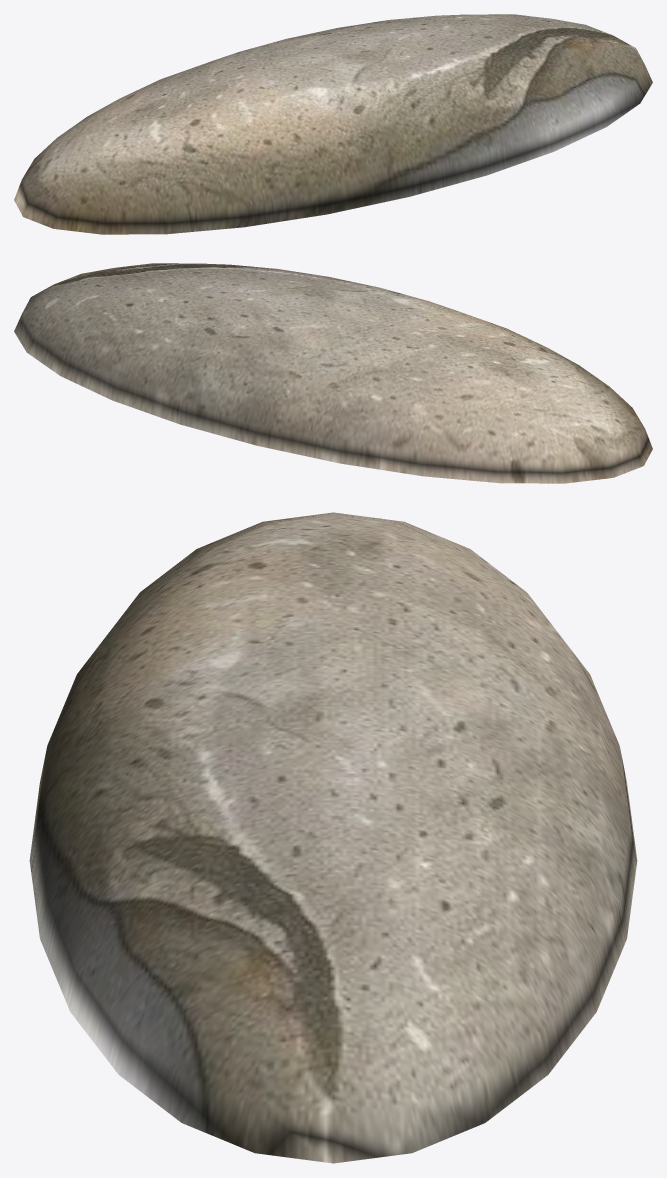
File: turtle-prop-flat-stone.glb
The picture shows the model from 3 angles, top to bottom: view 1: azimuth 30°, elevation 25°; view 2: azimuth 150°, elevation 25°; view 3: azimuth 270°, elevation 25°; orthographic projection. The views are drawn at different scales.
Parts seen in each view (by area): view 1: flat-stone; view 2: flat-stone; view 3: flat-stone.
Boxes of the visible parts, left/top/right/bottom form: flat-stone: left=14, top=14, right=652, bottom=234; flat-stone: left=14, top=263, right=652, bottom=483; flat-stone: left=29, top=512, right=637, bottom=1163.
Size of the model in its own units: 0.03 by 0.004 by 0.0127.
Materials: 1 (1 with a texture image).
